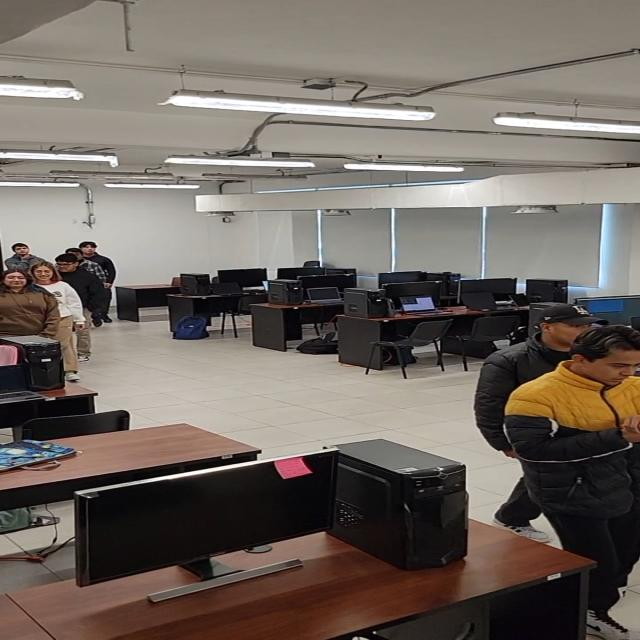Persona: (471, 290, 640, 435), (542, 333, 640, 564), (35, 261, 92, 378), (4, 268, 64, 366), (57, 245, 113, 323), (8, 235, 51, 274)
